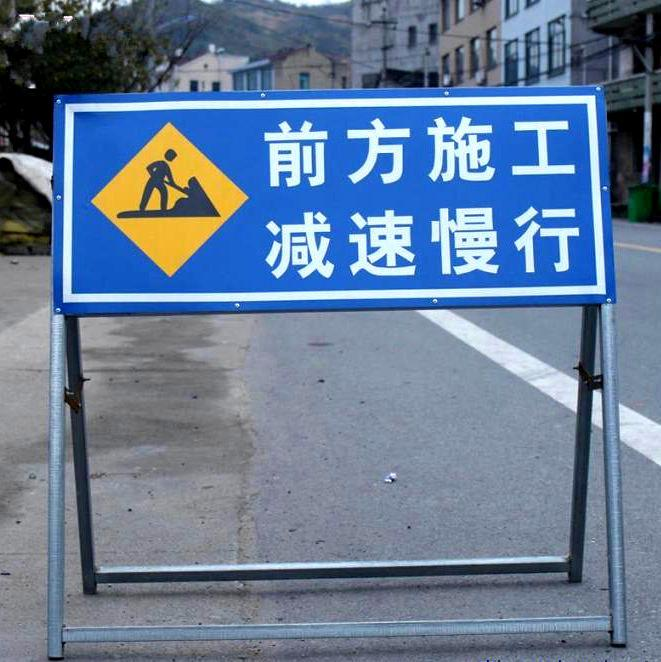sign: (57, 89, 610, 310)
